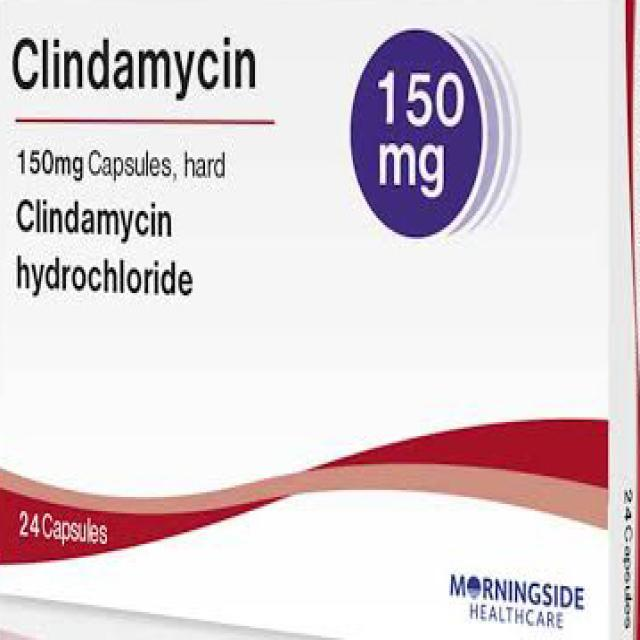drug-name: (8, 30, 262, 103)
